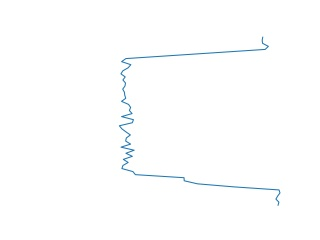distributaryChannelFill: (115, 34, 287, 207)
